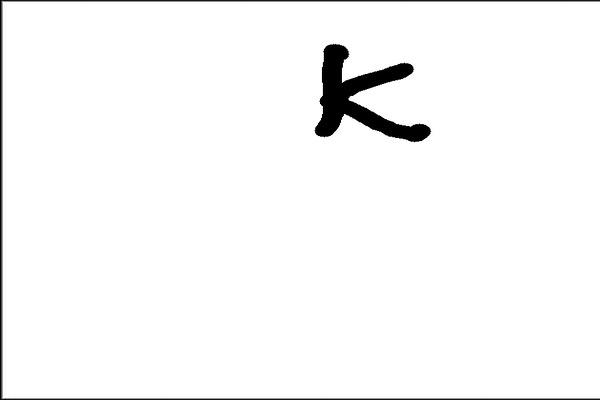K: (302, 32, 437, 151)
